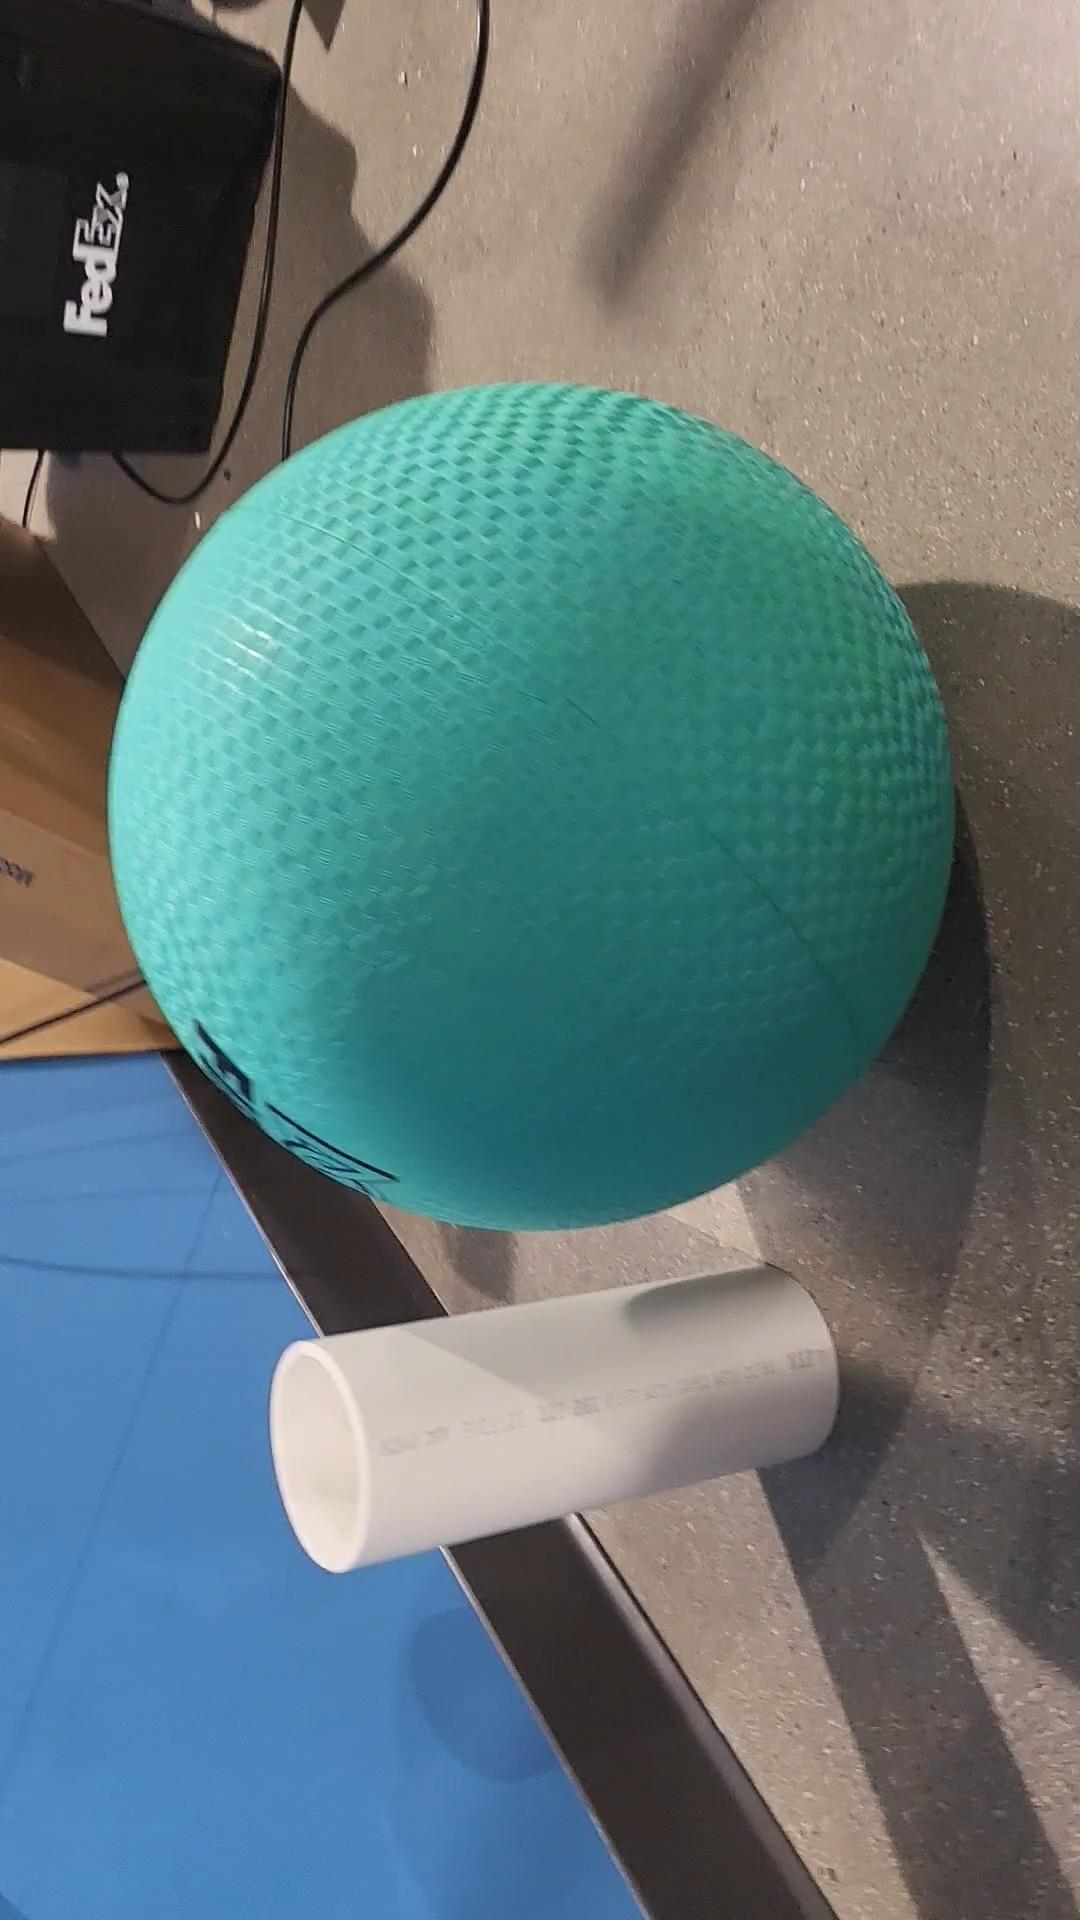algae: (103, 377, 934, 1240)
coral: (266, 1251, 870, 1577)
